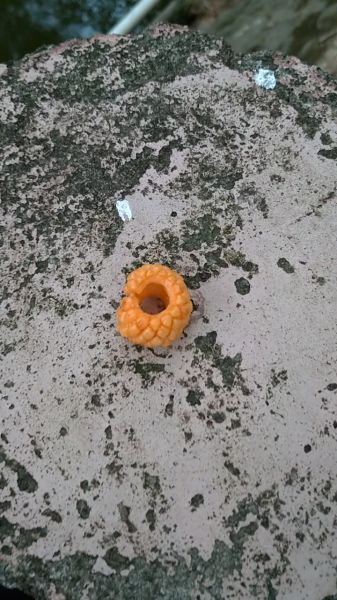eggs: (112, 257, 194, 353)
